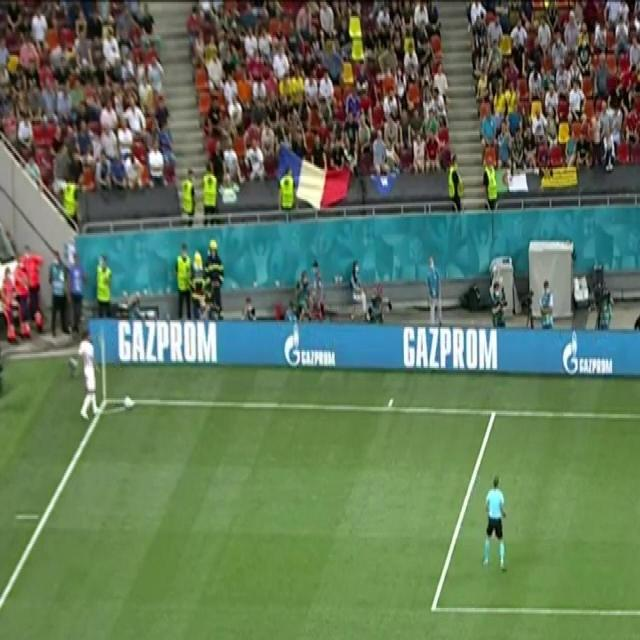Keeper: (481, 476, 507, 572)
ball: (123, 394, 133, 410)
player-white: (77, 330, 102, 421)
